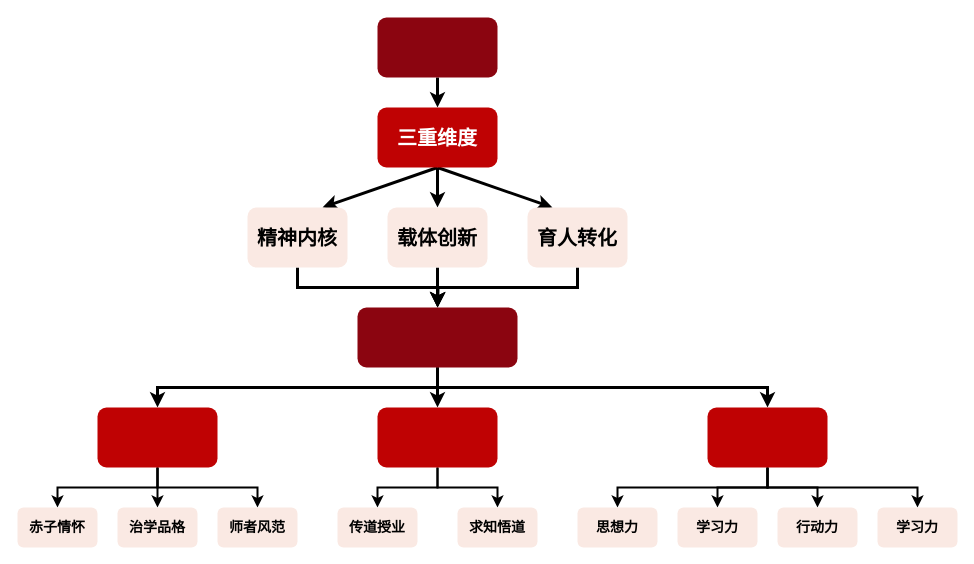
Image size: 974x564. Some labels were removed from this diagram. The shapes that lost their labels are listed below. From the top down, each one's centre as x and y in pixels, then its label:
point 437,47: 科学家精神
point 437,337: 一体两意四融合
point 157,437: 以“一体”筑魂 传承科学家 教育精神
point 437,437: 以“两意”互动 实现教与学 双向奔赴
point 767,437: 以“四融”聚力 支撑“四力” 育人目标
